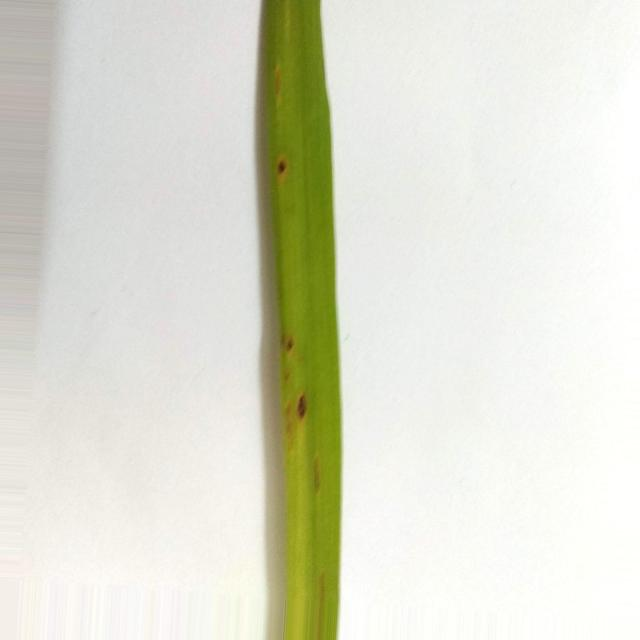Brown_Spot: (276, 156, 289, 181), (281, 334, 295, 356), (298, 394, 308, 419)
